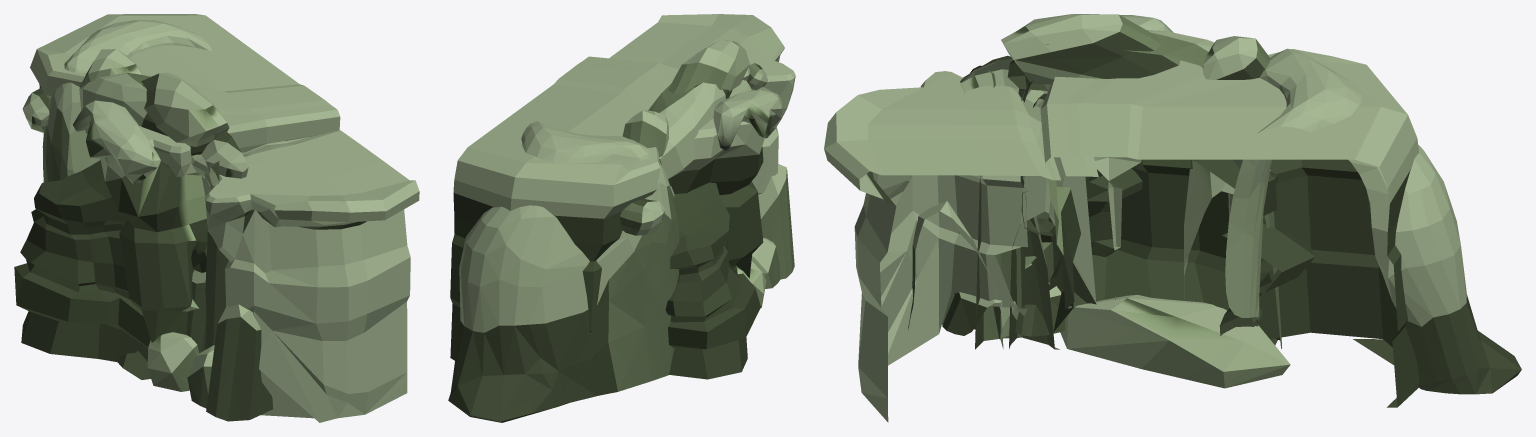
The model's file is EA_Swamp_Wall_01a.glb.
3 views of the same model, side by side, from view 1: azimuth 30°, elevation 25°; view 2: azimuth 150°, elevation 25°; view 3: azimuth 270°, elevation 25° (orthographic). The views are drawn at different scales.
Visible parts, largest first — view 1: EA_Swamp_Wall_01a; view 2: EA_Swamp_Wall_01a; view 3: EA_Swamp_Wall_01a.
Boxes of the visible parts, x1,y1,x2,y2 form: EA_Swamp_Wall_01a: (14,14,419,422); EA_Swamp_Wall_01a: (448,14,795,422); EA_Swamp_Wall_01a: (824,14,1521,422).
Size of the model in its own units: 14.58 by 16.18 by 31.11.
1 material, 1 textured.
